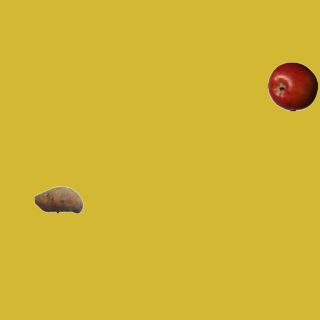Apple Braeburn: (267, 61, 317, 111)
Potato Sweet: (33, 174, 83, 224)
